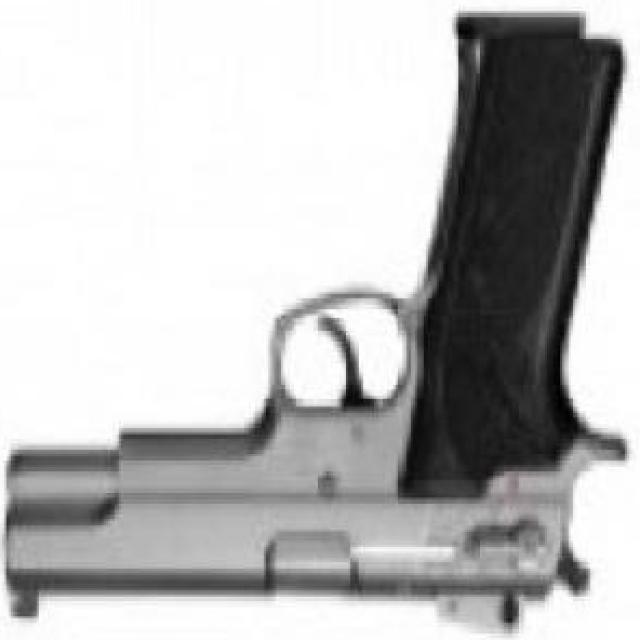pistol: (4, 17, 625, 634)
